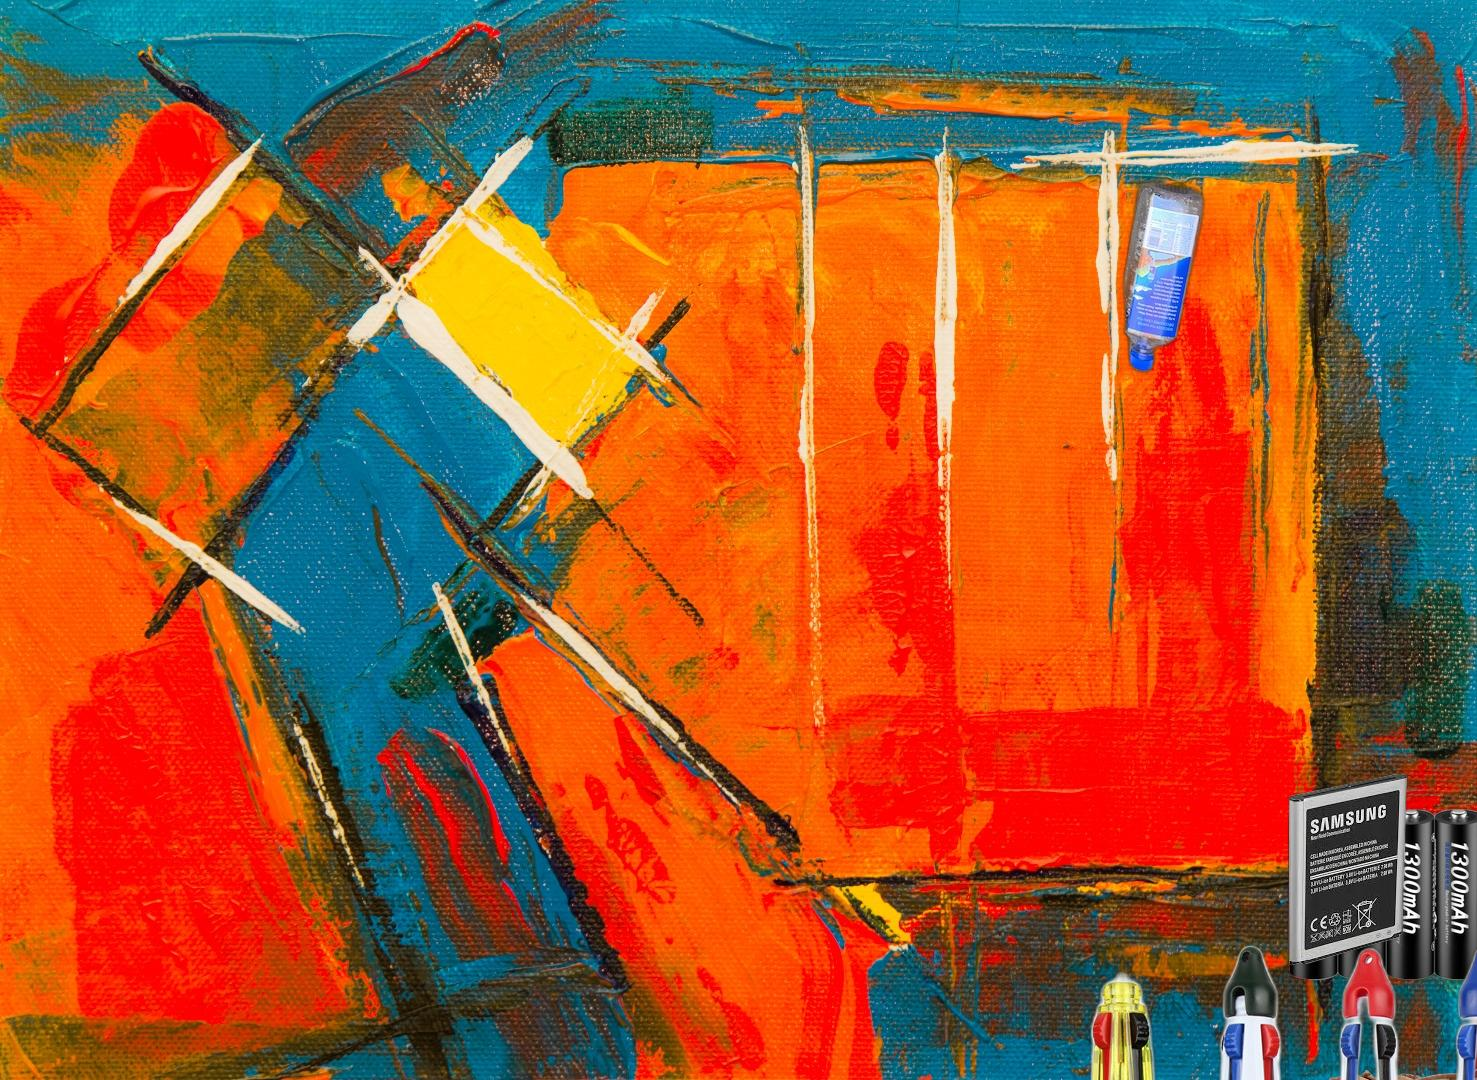battery: (1287, 807, 1477, 1001), (1285, 770, 1410, 968), (1470, 568, 1477, 984)
metal-cans: (1466, 1005, 1477, 1080)
penholder: (1080, 938, 1477, 1080)
plastic-bottles: (1116, 166, 1209, 378), (441, 1047, 601, 1080)
shoes: (1264, 1067, 1477, 1080)
